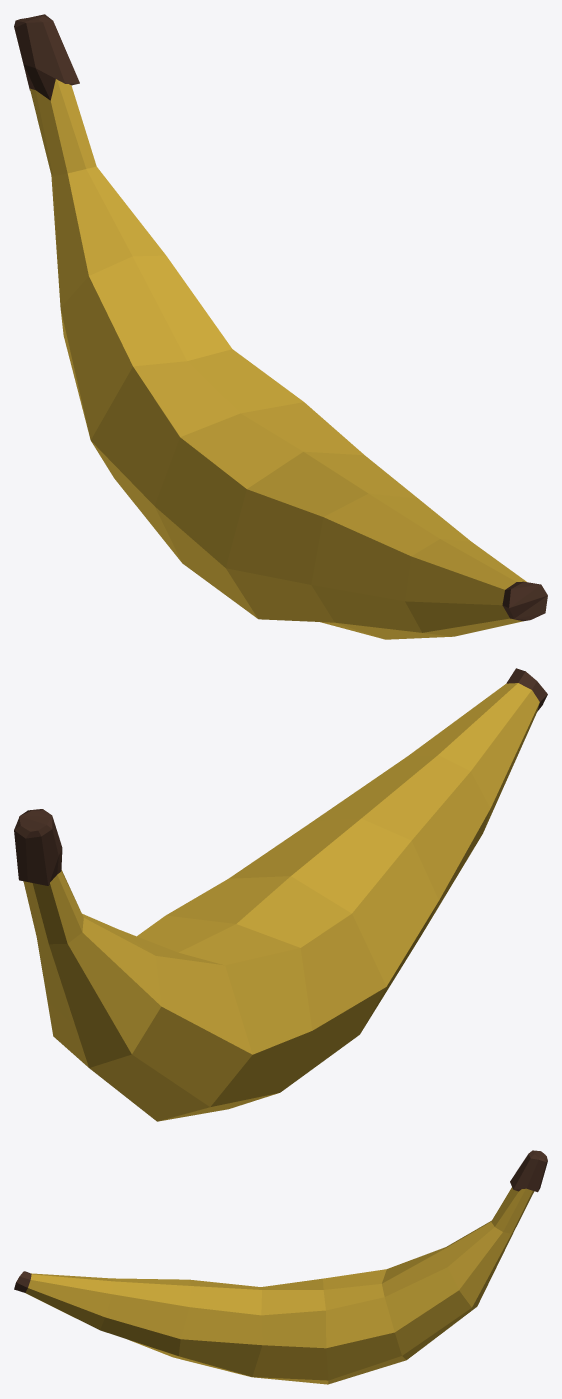
File: banana.glb
3 renders of one model, top to bottom at view 1: azimuth 30°, elevation 25°; view 2: azimuth 150°, elevation 25°; view 3: azimuth 270°, elevation 25°, orthographic. The views are drawn at different scales.
Parts seen in each view (by area): view 1: NurbsPath; view 2: NurbsPath; view 3: NurbsPath.
Part boxes in pixels (bbox=[...]): NurbsPath: bbox=[14, 14, 547, 639]; NurbsPath: bbox=[14, 668, 547, 1121]; NurbsPath: bbox=[14, 1150, 547, 1384].
Size of the model in its own units: 0.7733 by 1.9 by 4.02.
